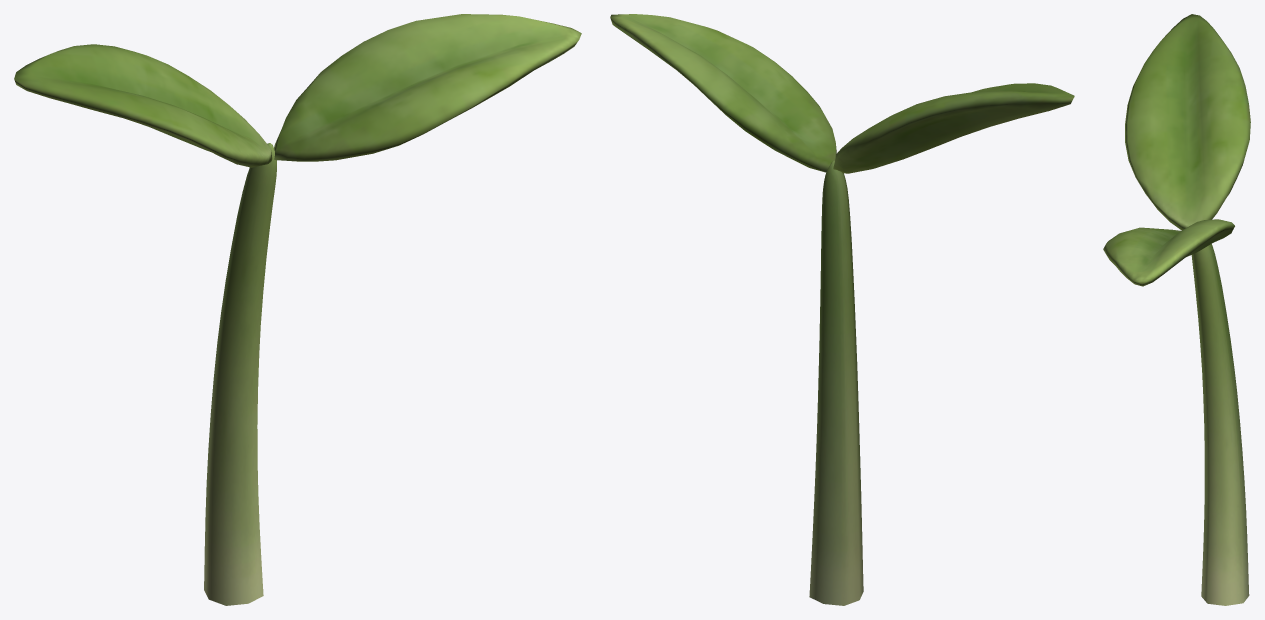
File: POI_Flower_s_Lod0.fbx
3 renders of one model, left to right at view 1: azimuth 30°, elevation 25°; view 2: azimuth 150°, elevation 25°; view 3: azimuth 270°, elevation 25°, orthographic. The views are drawn at different scales.
Parts seen in each view (by area): view 1: mesh_LerfL_D, mesh_Body, mesh_LerfL_B; view 2: mesh_Body, mesh_LerfL_D, mesh_LerfL_B; view 3: mesh_LerfL_B, mesh_Body, mesh_LerfL_D.
Part boxes in pixels (<box>): mesh_LerfL_D: <box>274,14,581,161</box>; mesh_Body: <box>204,143,276,605</box>; mesh_LerfL_B: <box>14,44,272,167</box>; mesh_Body: <box>809,160,863,605</box>; mesh_LerfL_D: <box>610,14,836,172</box>; mesh_LerfL_B: <box>833,83,1074,173</box>; mesh_LerfL_B: <box>1125,14,1250,230</box>; mesh_Body: <box>1191,244,1249,605</box>; mesh_LerfL_D: <box>1103,219,1234,286</box>.
Size of what is drawn, in the model's own units: 7.7 by 8.1 by 2.22.
Materials: 1 (1 with a texture image).
